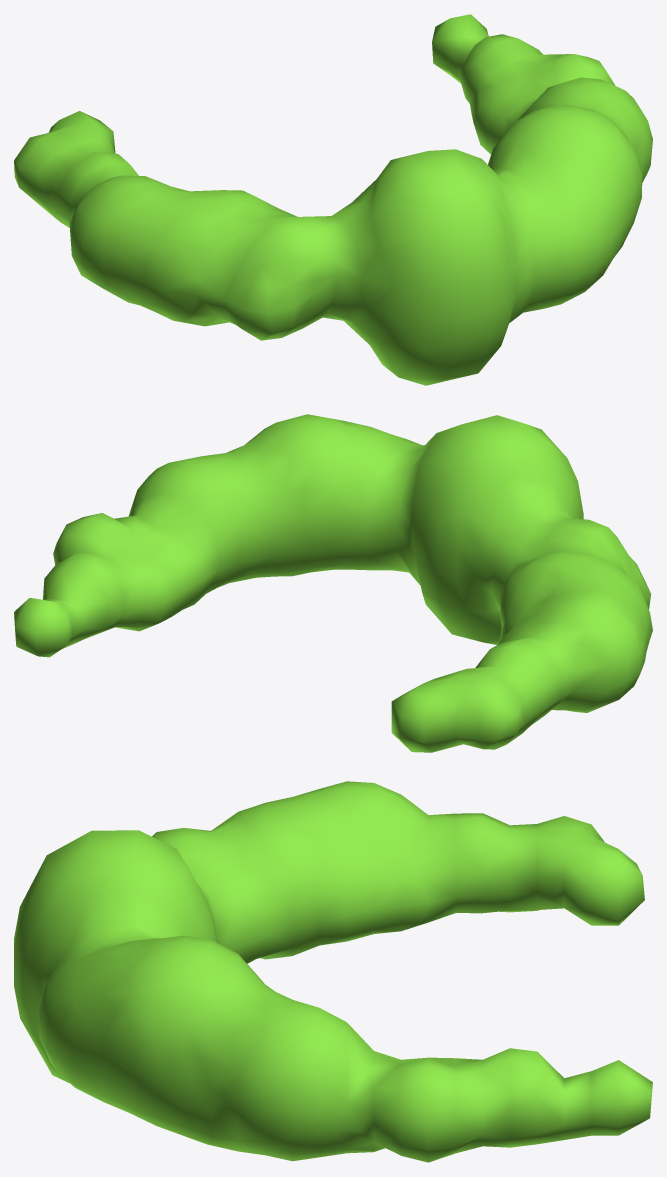
The model's file is p_trashbot_trashball_wavetorus02.fbx.
The picture shows the model from 3 angles, top to bottom: view 1: azimuth 30°, elevation 25°; view 2: azimuth 150°, elevation 25°; view 3: azimuth 270°, elevation 25°; orthographic projection. The views are drawn at different scales.
Parts seen in each view (by area): view 1: Wave; view 2: Wave; view 3: Wave.
Boxes of the visible parts, <box> form: Wave: <box>14,14,652,385</box>; Wave: <box>14,414,652,752</box>; Wave: <box>14,781,652,1162</box>.
Bounding box in the file's own units: 10.93 × 3.99 × 9.4.
